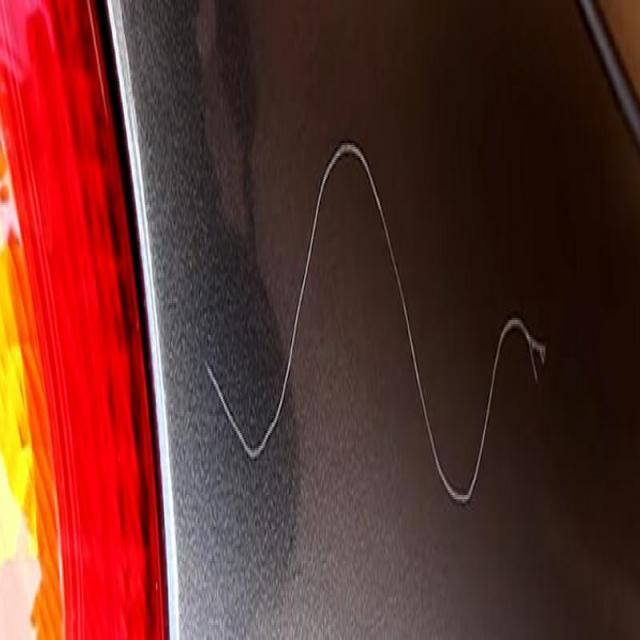scratch: (194, 123, 552, 536)
